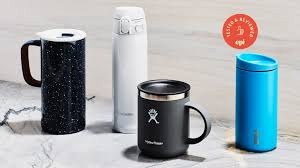mug: (128, 64, 218, 168)
